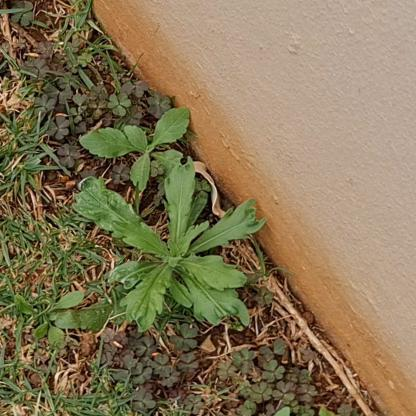Weeds: (74, 175, 268, 338), (81, 105, 196, 194), (14, 288, 85, 347)
